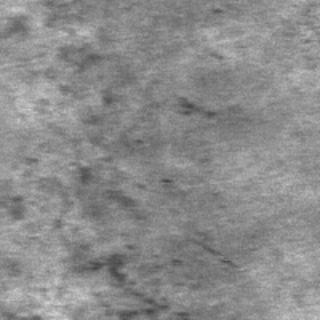rolled pit: (0, 160, 204, 316), (48, 42, 204, 138)
